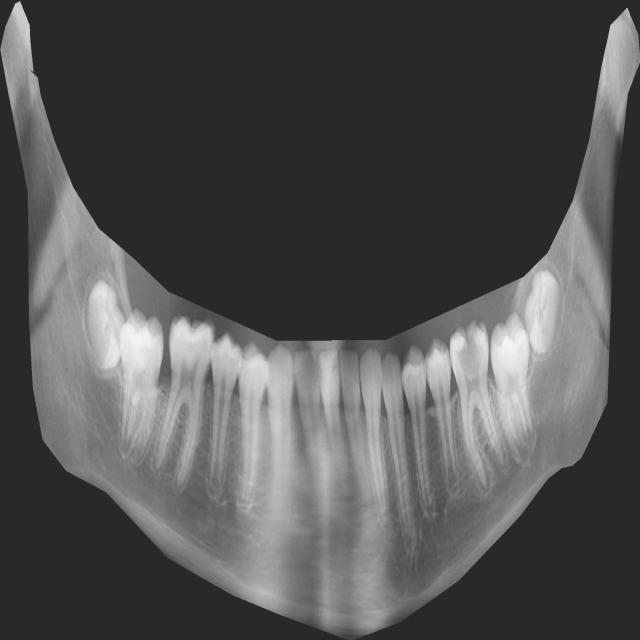mandibula: (0, 1, 640, 640)
